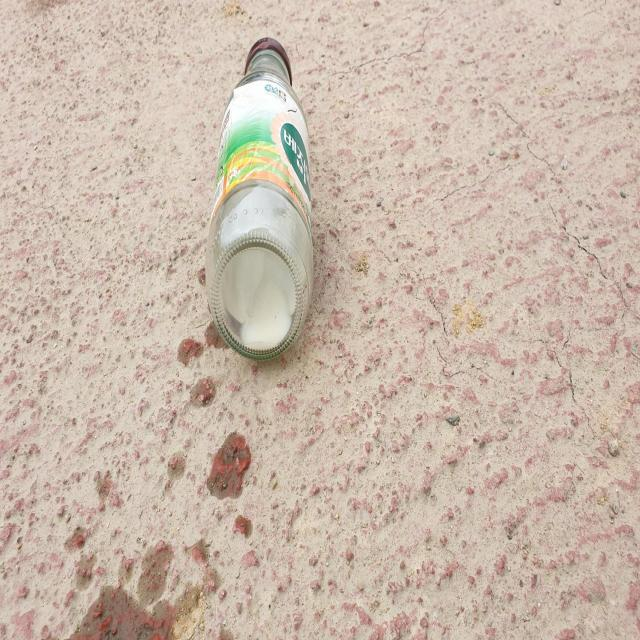glass: (206, 36, 313, 360)
